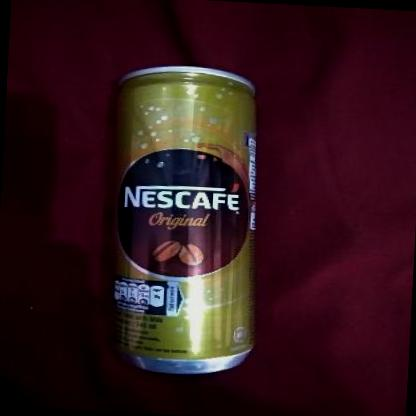alumunium_can: (96, 60, 272, 382)
